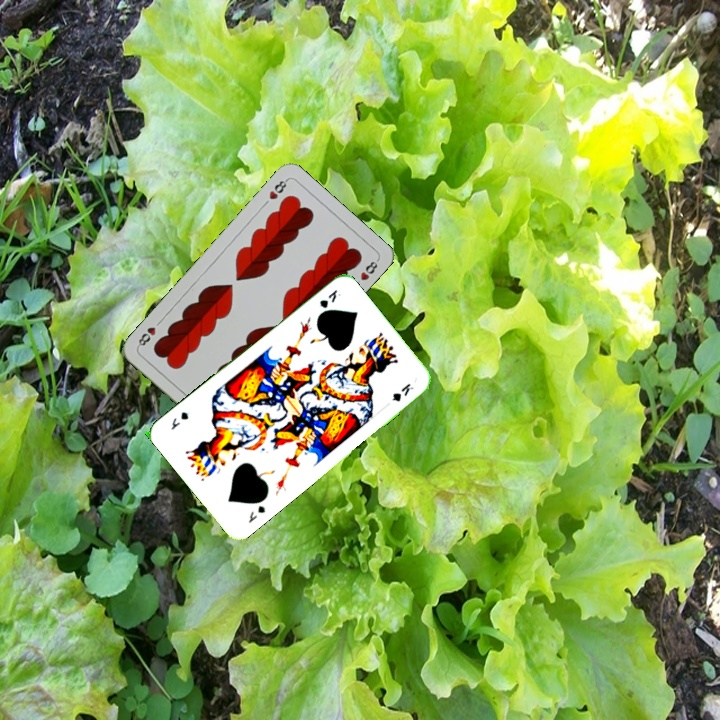GK: (315, 286, 344, 311), (244, 501, 268, 525)
H8: (265, 175, 291, 202)
